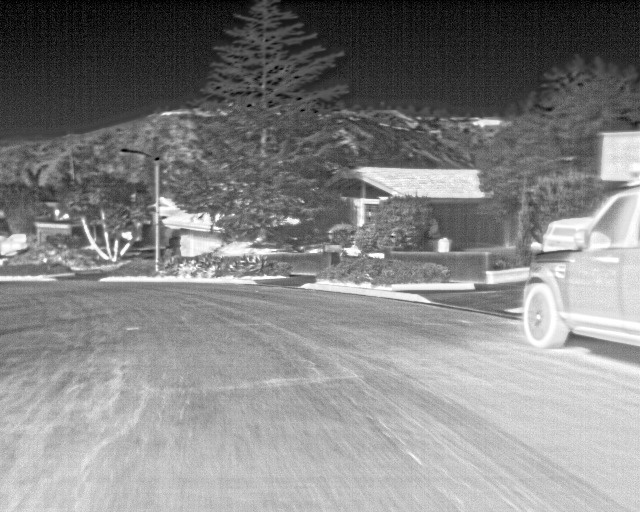vehicle: (522, 187, 640, 361)
